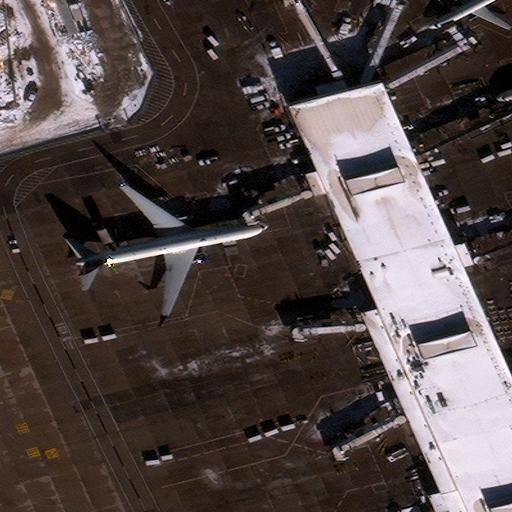Large Civil Transport: (75, 182, 268, 315)
Medium Civil Transport: (427, 0, 512, 30)
